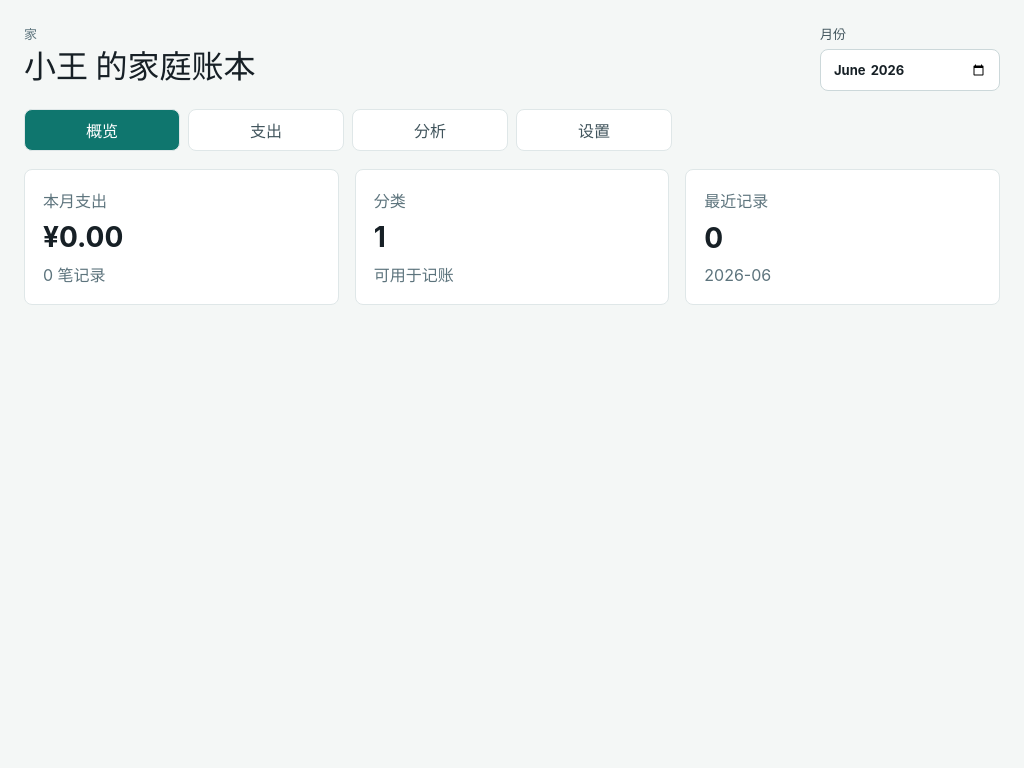
Test case: device public entry › returns to the public entry when an authenticated app-runtime service URL change succeeds
The width and height of the screenshot is (1024, 768).
Expected: the navigation bar named "设备端导航" is shown, [24, 109, 672, 151]
Click the button "设置" at point(594, 130), box [516, 109, 672, 151]
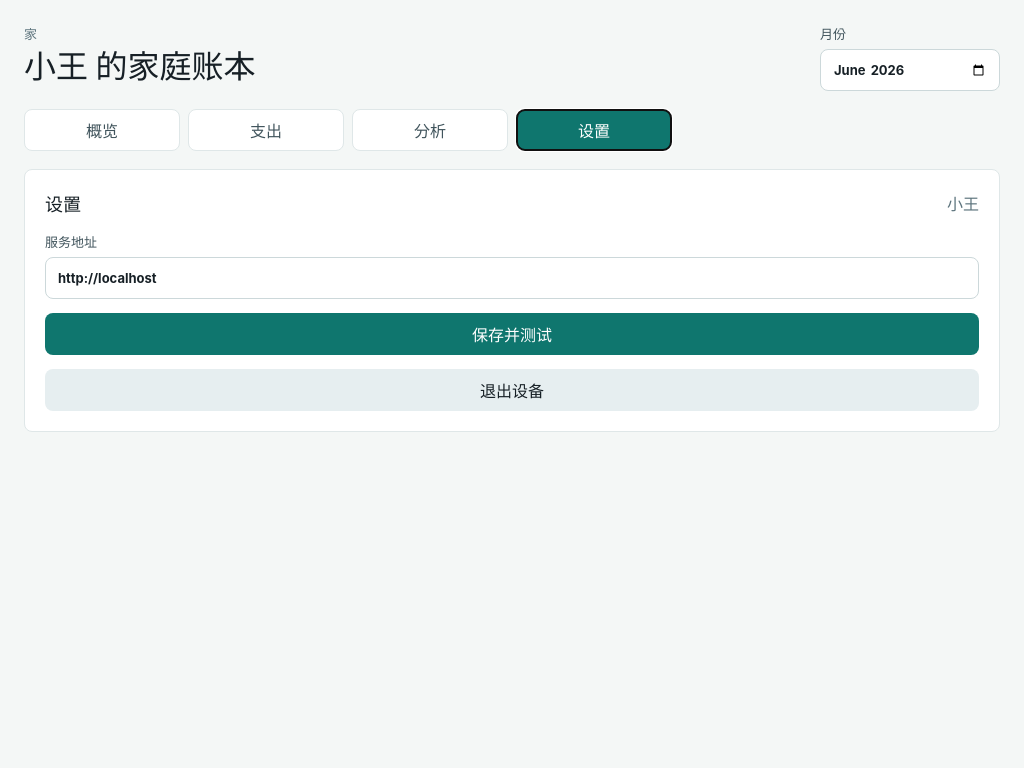
Replace the text in the field labelled "服务地址" with "http://new-api.test" at point(512, 278), box [45, 257, 979, 299]
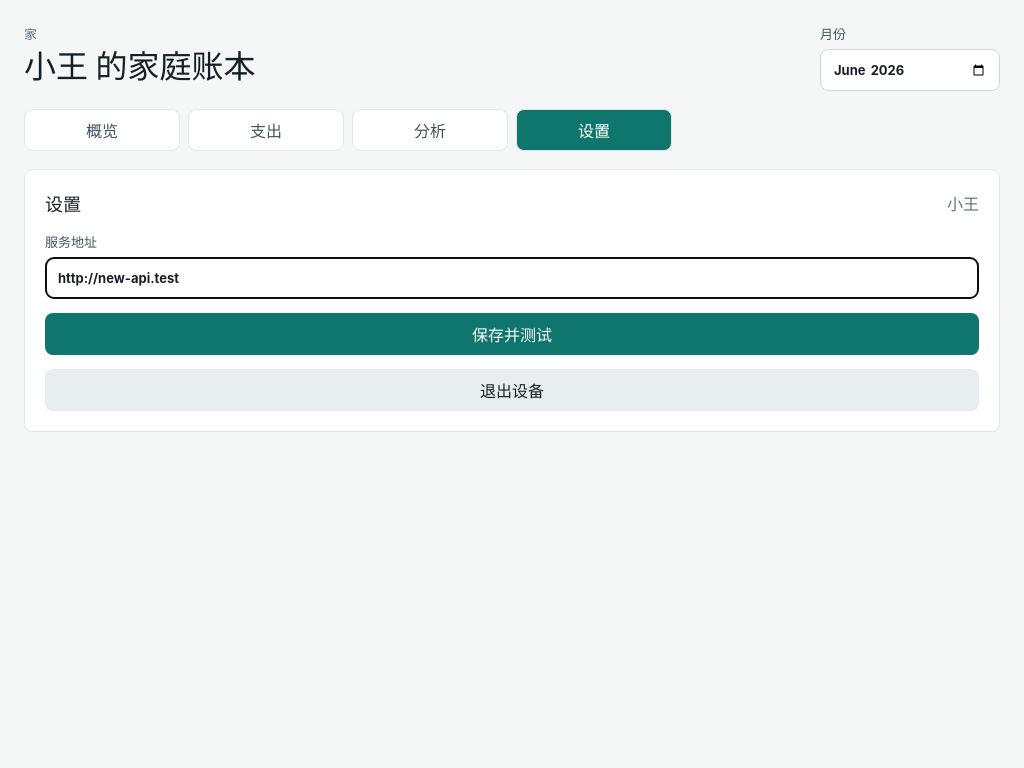
Click the button "保存并测试" at point(512, 334), box [45, 313, 979, 355]
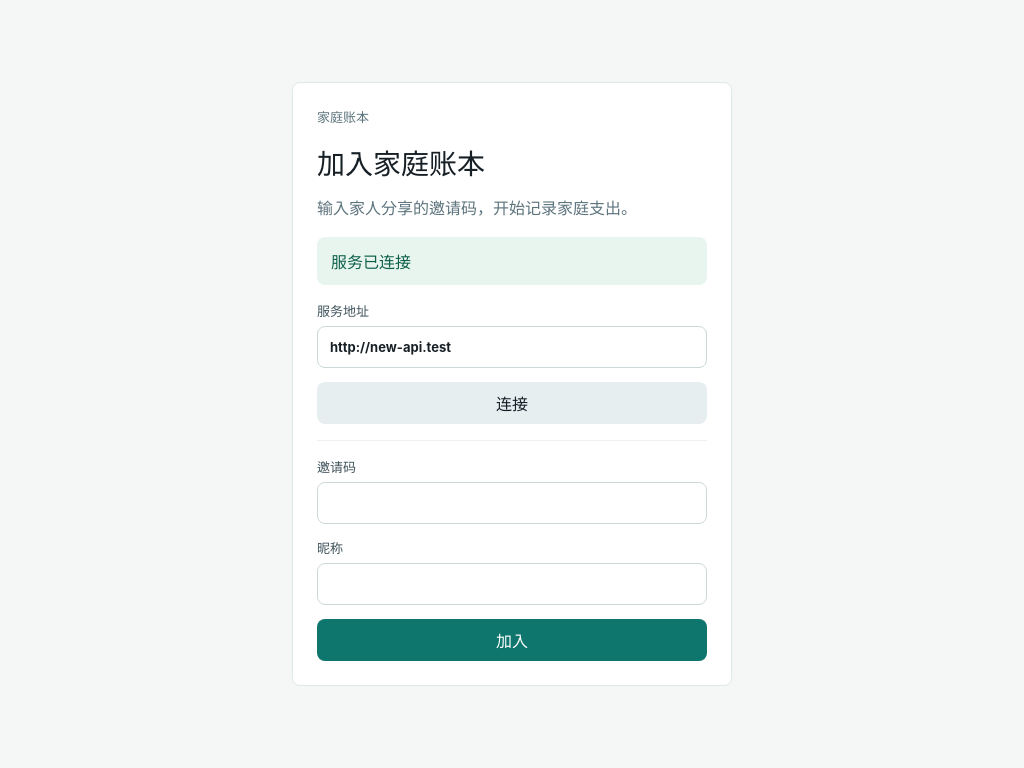
Expected: the heading "加入家庭账本" is shown, [317, 147, 485, 181]
Expected: the navigation bar "设备端导航" is gone
